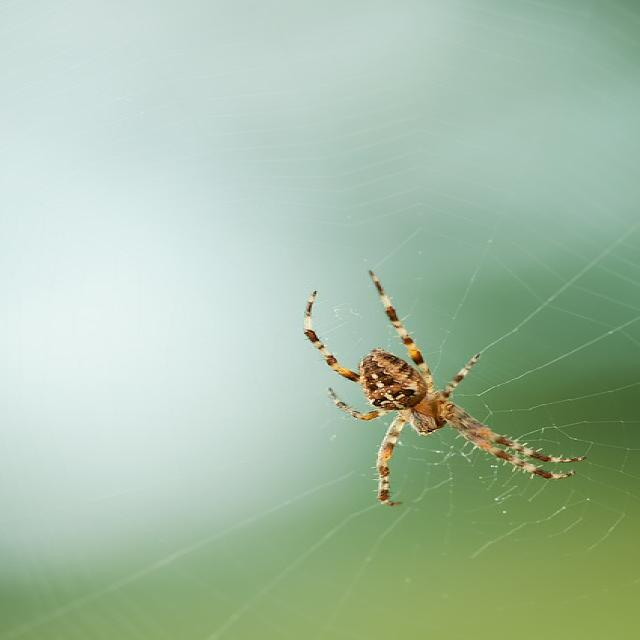spyder: (304, 283, 584, 504)
